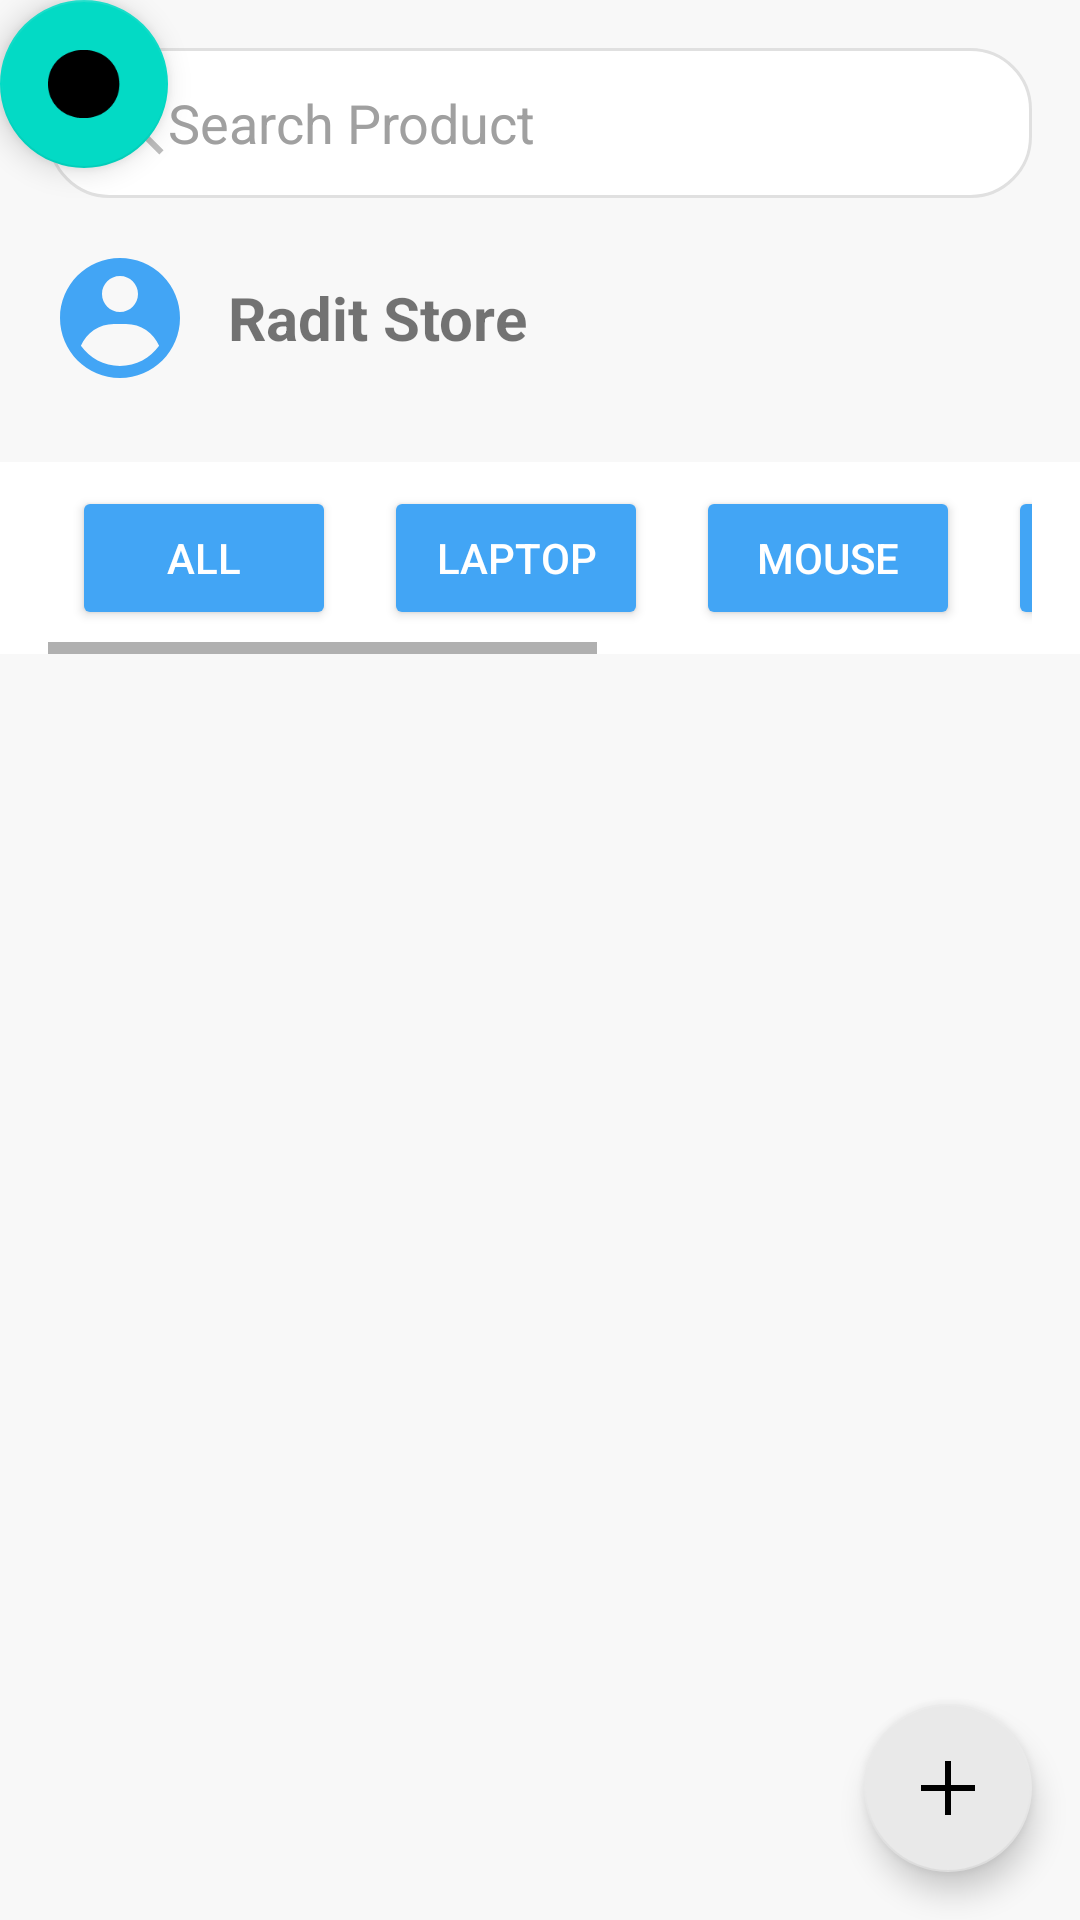

Where icons sit on this 1080×1920 app screen, as (x1, y1, x2, y2):
add: (864, 1705, 1032, 1872)
Profile Image: (60, 258, 180, 378)
